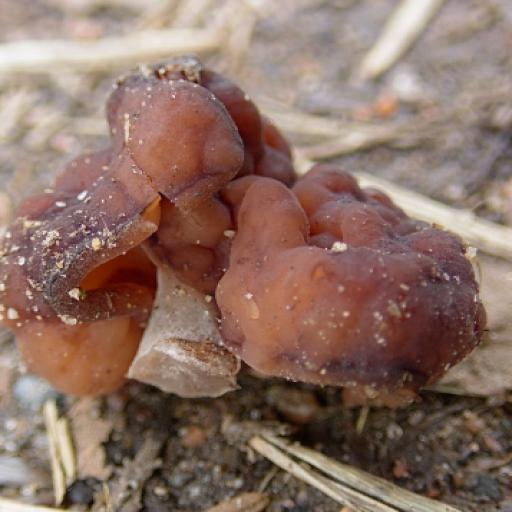False Morel: (0, 33, 512, 512)
